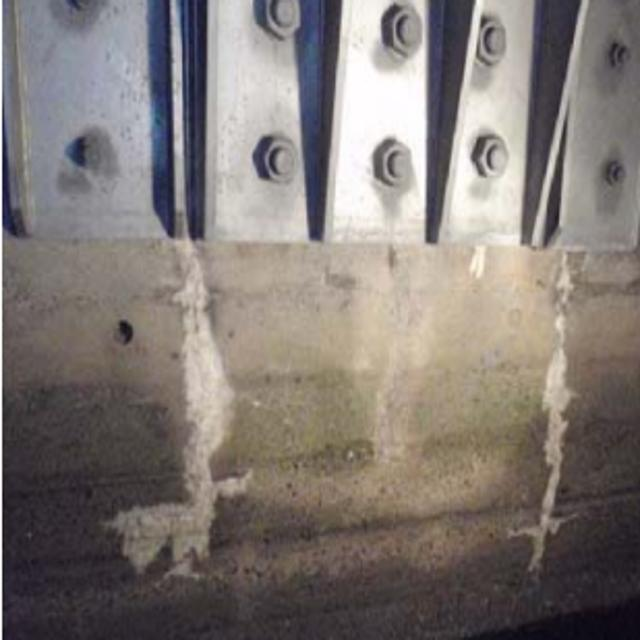freelime: (127, 254, 262, 583), (514, 244, 586, 580)
